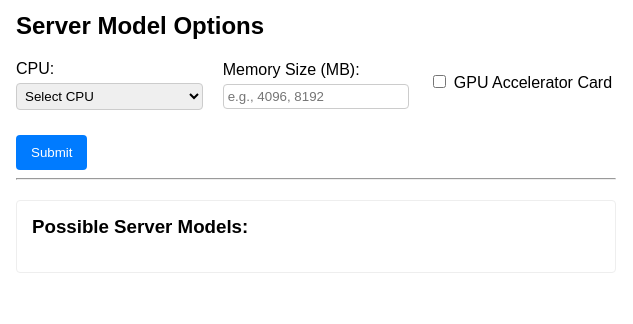
App Component › displays "No Options" when no server model matches (Example 1)
The width and height of the screenshot is (633, 324).
Select "Power" in the dropdown labelled "CPU:" at (109, 96), box [16,83,203,110]
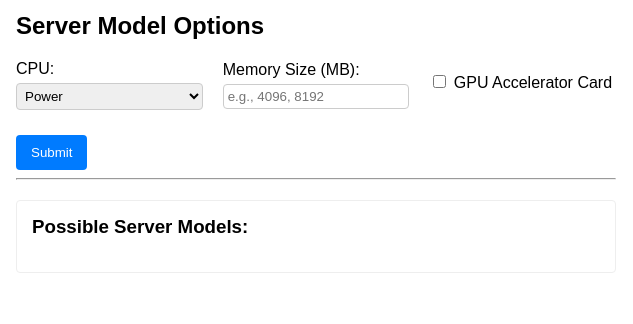
Type "1024" into the field labelled "Memory Size (MB):".
click(316, 96); type("1024")  # box [223,84,409,109]
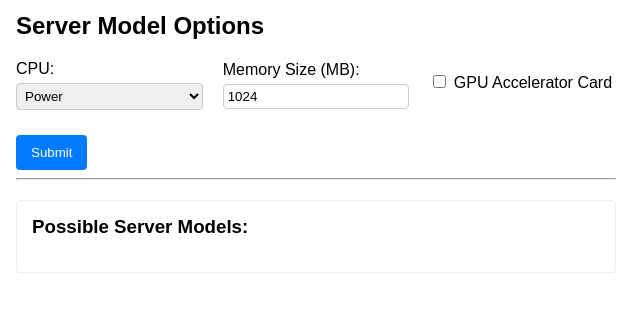
Click the button "Submit".
click(52, 152)  # box [16,135,88,170]
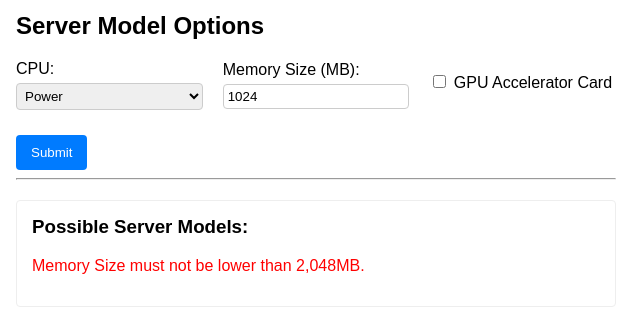
Check: the text "Memory Size must not be lower than 2,048MB." is shown, box [32,256,365,274]
